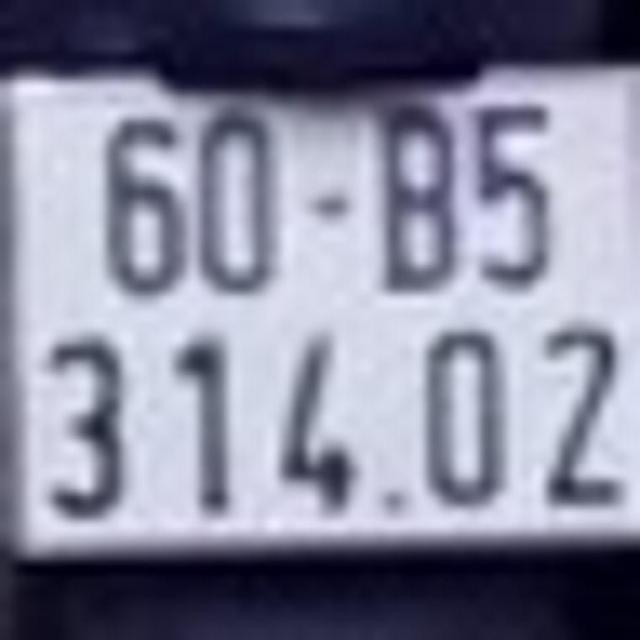0: (418, 320, 516, 508), (197, 110, 285, 290)
1: (164, 318, 238, 516)
2: (538, 314, 633, 512)
3: (38, 323, 134, 519)
4: (270, 320, 365, 520)
5: (472, 96, 556, 296)
6: (98, 110, 194, 296)
B: (376, 95, 466, 298)
